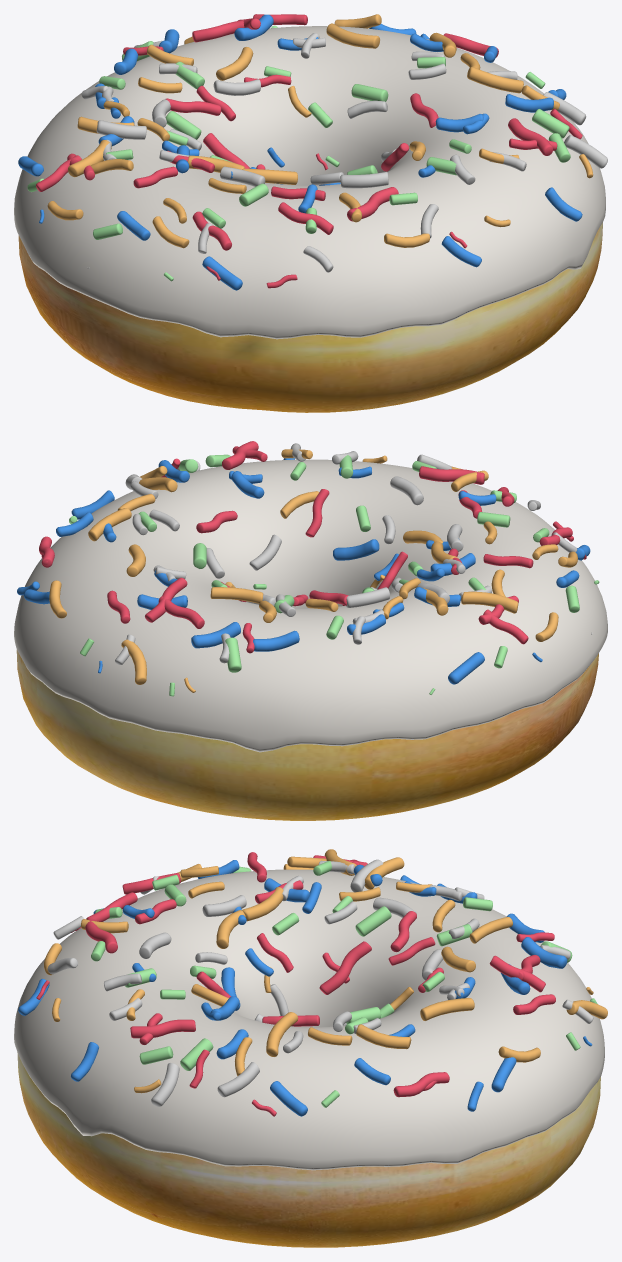
File: white rainbow vermicheli.glb
3 renders of one model, top to bottom at view 1: azimuth 30°, elevation 25°; view 2: azimuth 150°, elevation 25°; view 3: azimuth 270°, elevation 25°, orthographic. The views are drawn at different scales.
Visible parts, largest first — view 1: chocolate.003, rainbow, Torus; view 2: chocolate.003, Torus, rainbow; view 3: chocolate.003, rainbow, Torus.
Boxes of the visible parts, box(x1,y1,x2,y2) form: chocolate.003: box(14, 26, 605, 339); rainbow: box(18, 14, 607, 290); Torus: box(18, 222, 602, 412); chocolate.003: box(14, 459, 607, 752); Torus: box(16, 649, 598, 820); rainbow: box(17, 441, 599, 696); chocolate.003: box(14, 869, 604, 1170); rainbow: box(18, 849, 607, 1116); Torus: box(17, 1052, 600, 1247).
Size of the model in its own units: 0.1988 by 0.0811 by 0.198.
7 materials, 1 textured.
